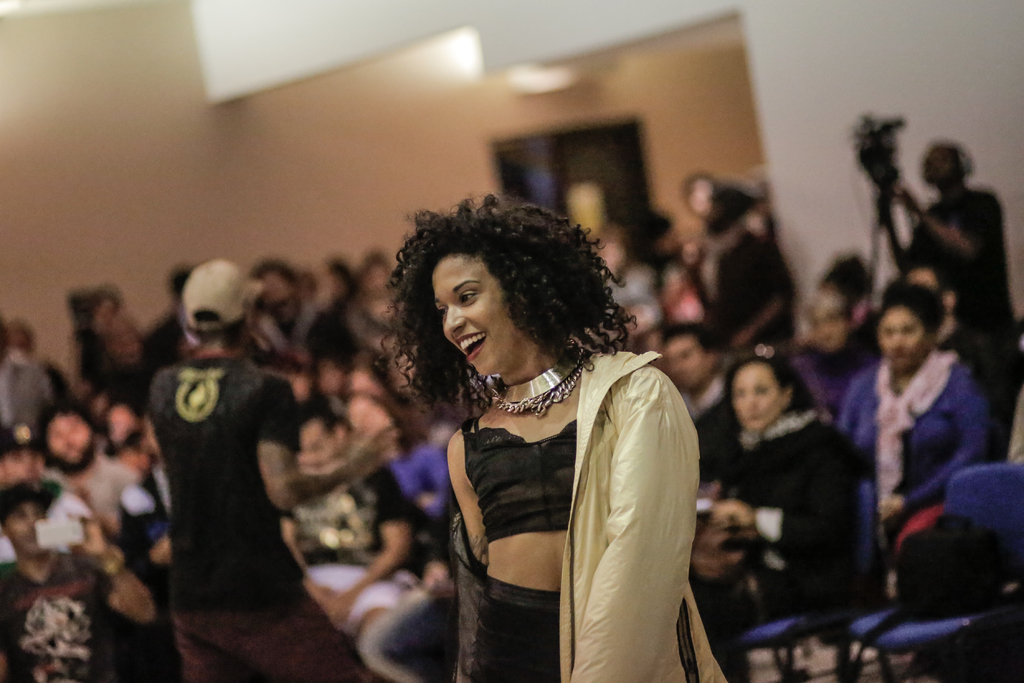Human_hand: (338, 424, 412, 488), (60, 504, 110, 563), (696, 529, 744, 577), (329, 586, 362, 630), (714, 500, 752, 529), (877, 490, 909, 523), (892, 181, 920, 214), (420, 563, 451, 592), (348, 366, 374, 397)
